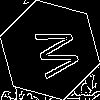W: (25, 25, 82, 82)
